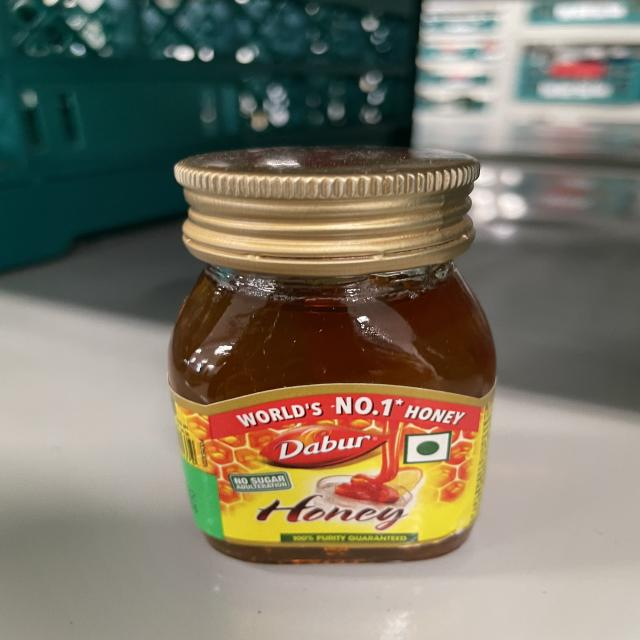object_name: (167, 145, 484, 567)
